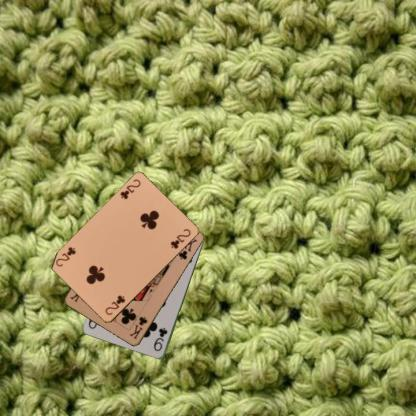2c: (102, 293, 127, 317), (118, 176, 141, 202)
9c: (151, 326, 169, 352)
Kc: (126, 314, 150, 340)
